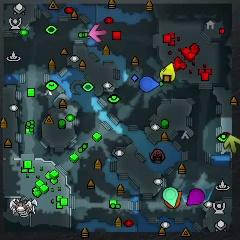p1: (140, 76, 159, 92)
p2: (163, 186, 178, 207)
p3: (187, 189, 205, 205)
p4: (160, 63, 176, 82)
p5: (164, 190, 182, 208)
x1: (89, 25, 107, 42)
x2: (224, 135, 240, 152)
